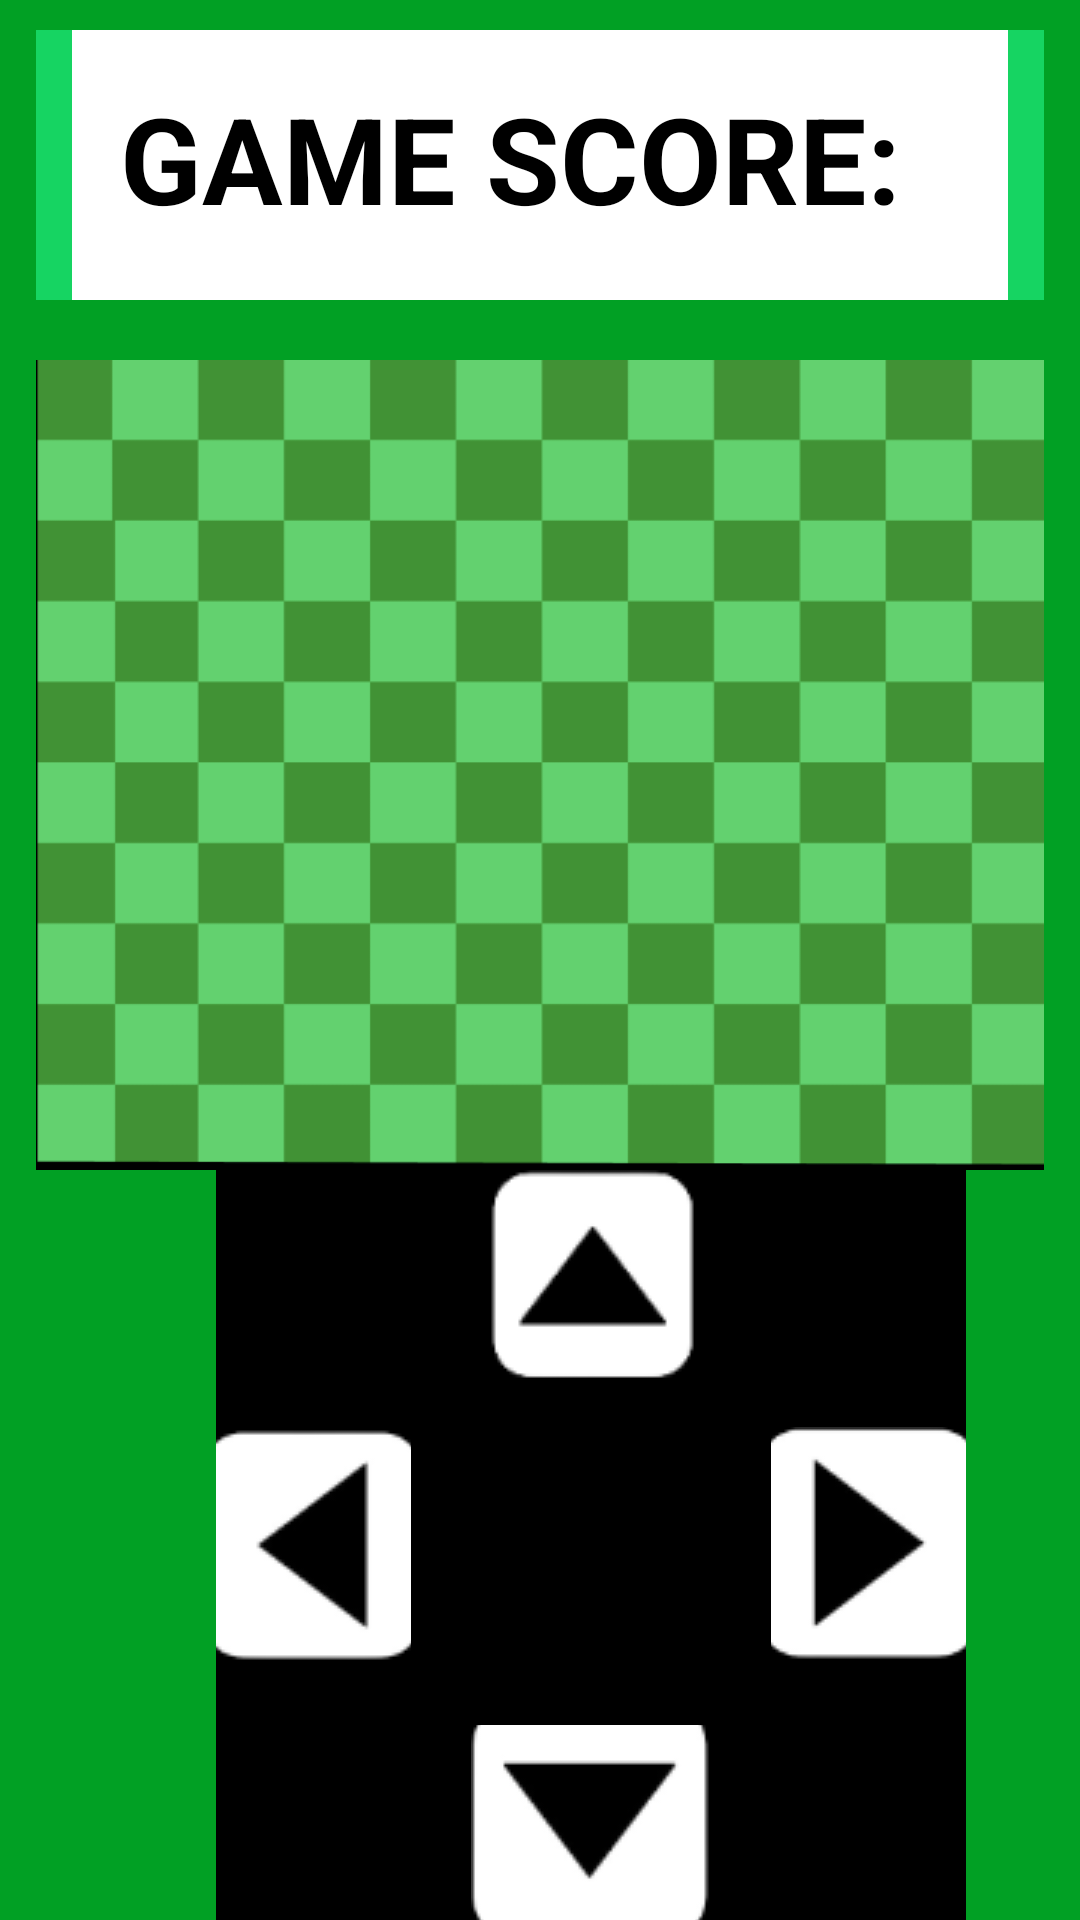

Named icons in this screenshot (1080w x 1920h) and their bounding boxes, (x1, y1, x2, y2):
gamebuttondown: (471, 1725, 709, 1920)
gamebuttonleft: (216, 1430, 411, 1660)
gamebuttonright: (771, 1427, 966, 1659)
gamebuttonup: (491, 1171, 694, 1378)
